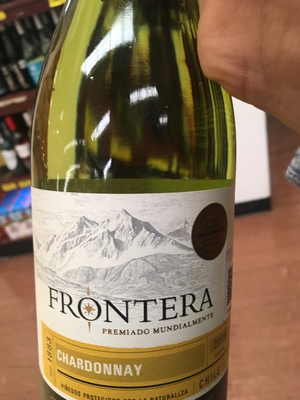frontera chardonnay: (29, 8, 237, 399)
